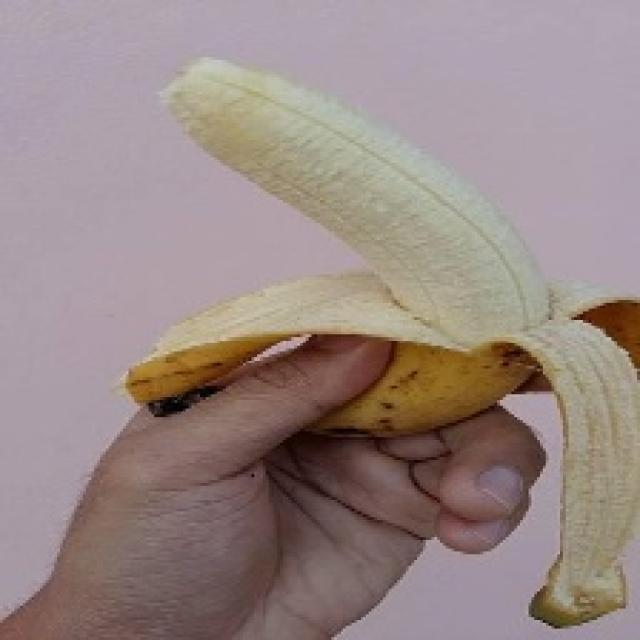Banana: (120, 51, 637, 628)
